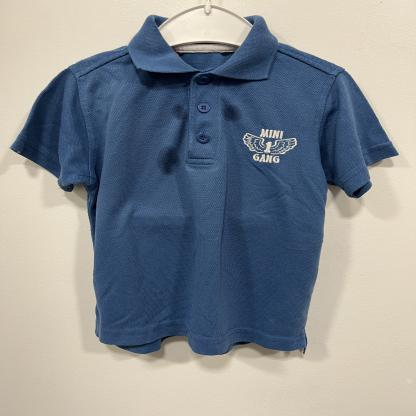stain: (152, 144, 183, 179), (219, 101, 244, 127), (167, 102, 193, 124)
